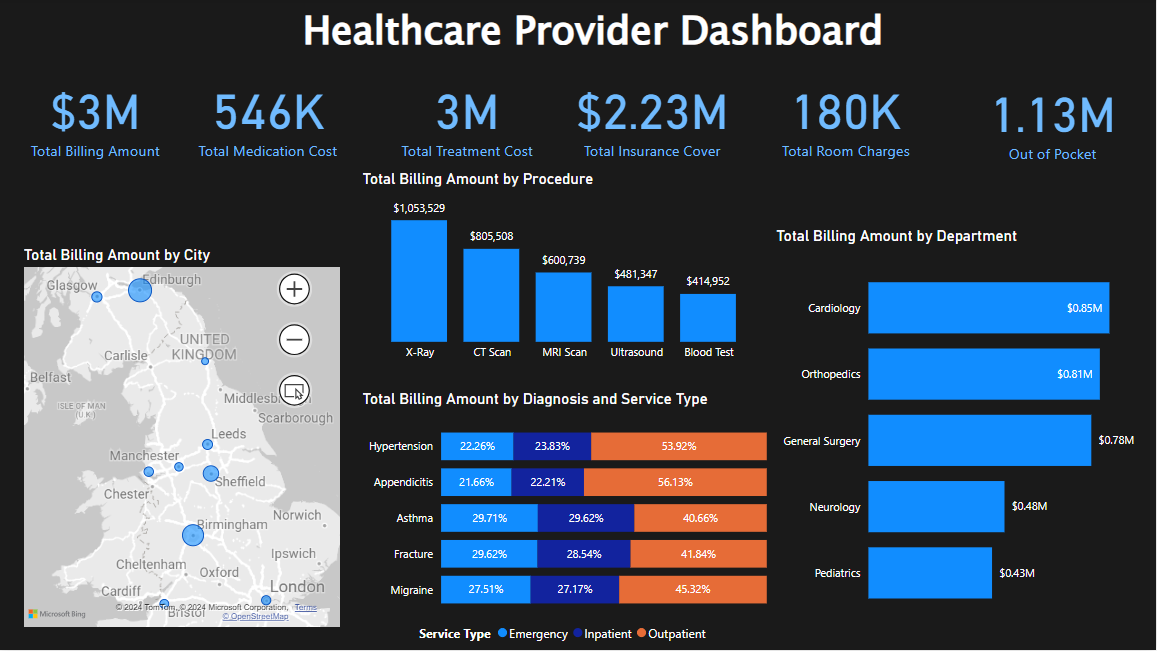

The page's visual inventory and layout, read from the dashboard file:
{"tool":"powerbi","page":{"name":"Page 2","canvas":[1280,720],"ordinal":1},"visuals":[{"type":"card","title":"Billing Amount","fields":{"Values":["Dax Calculation.Total Billing Amount"]},"box":[0,74.1,215.4,111.1],"z":0},{"type":"card","fields":{"Values":["Dax Calculation.Total Medication Cost"]},"box":[198.9,74.1,198.9,111.1],"z":1000},{"type":"card","fields":{"Values":["Dax Calculation.Total Treatment Cost"]},"box":[414.3,74.1,208.5,111.1],"z":2000},{"type":"card","fields":{"Values":["Dax Calculation.Total Insurance Cover"]},"box":[622.9,74.1,200.3,111.1],"z":3000},{"type":"card","fields":{"Values":["Dax Calculation.Total Room Charges"]},"box":[823.2,74.1,227.7,111.1],"z":4000},{"type":"card","fields":{"Values":["Dax Calculation.Out of Pocket"]},"box":[1050.9,74.1,229.1,116.6],"z":5000},{"type":"map","fields":{"Category":["cities.City"],"Size":["Dax Calculation.Total Billing Amount"]},"box":[23.5,273.4,359,426.7],"z":6000},{"type":"clusteredColumnChart","fields":{"Category":["procedures.Procedure"],"Y":["Dax Calculation.Total Billing Amount"]},"box":[397.9,189.3,456.8,220.9],"z":7000},{"type":"hundredPercentStackedBarChart","fields":{"Y":["Dax Calculation.Total Billing Amount"],"Category":["diagnoses.Diagnosis"],"Series":["visits.Service Type"]},"box":[397.9,432.2,456.8,288.1],"z":7001},{"type":"clusteredBarChart","fields":{"Y":["Dax Calculation.Total Billing Amount"],"Category":["departments.Department"]},"box":[854.7,252.4,411.6,447.2],"z":7002},{"type":"textbox","box":[203,0,807.8,85.6],"z":7003}]}

Visuals, with their boxes in screenshot pixels (x1, y1, x2, y2), scaled from the page's 1280x720 canvas onto the 1157x651 screenshot:
"Billing Amount" card: bbox=[0, 67, 195, 167]
card - Dax Calculation.Total Medication Cost: bbox=[180, 67, 360, 167]
card - Dax Calculation.Total Treatment Cost: bbox=[374, 67, 563, 167]
card - Dax Calculation.Total Insurance Cover: bbox=[563, 67, 744, 167]
card - Dax Calculation.Total Room Charges: bbox=[744, 67, 950, 167]
card - Dax Calculation.Out of Pocket: bbox=[950, 67, 1156, 172]
map - cities.City x Dax Calculation.Total Billing Amount: bbox=[21, 247, 346, 633]
clusteredColumnChart - procedures.Procedure x Dax Calculation.Total Billing Amount: bbox=[360, 171, 773, 371]
hundredPercentStackedBarChart - Dax Calculation.Total Billing Amount x diagnoses.Diagnosis: bbox=[360, 391, 773, 650]
clusteredBarChart - Dax Calculation.Total Billing Amount x departments.Department: bbox=[773, 228, 1145, 633]
textbox: bbox=[183, 0, 914, 77]
